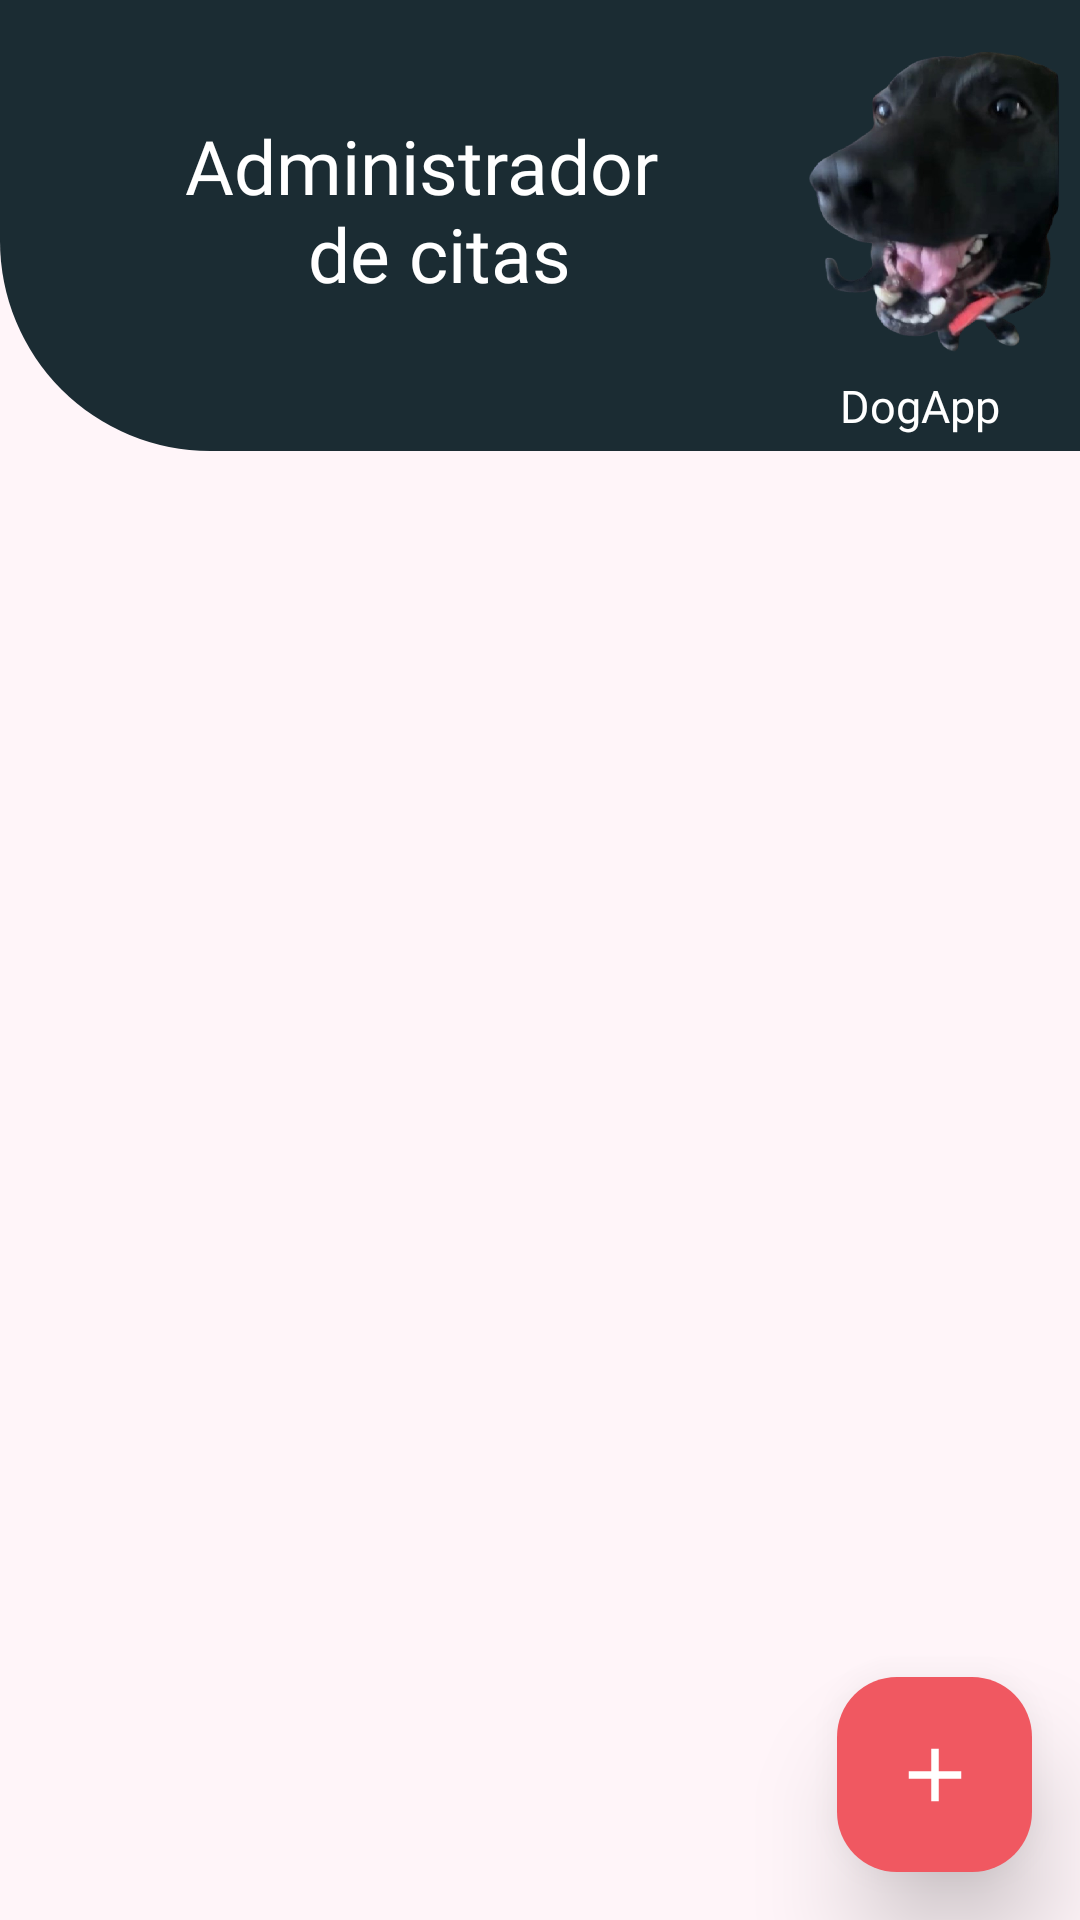

Where to tap for icons on this 1080px×1920px app screen, as point (x, y):
add: point (934, 1774)
